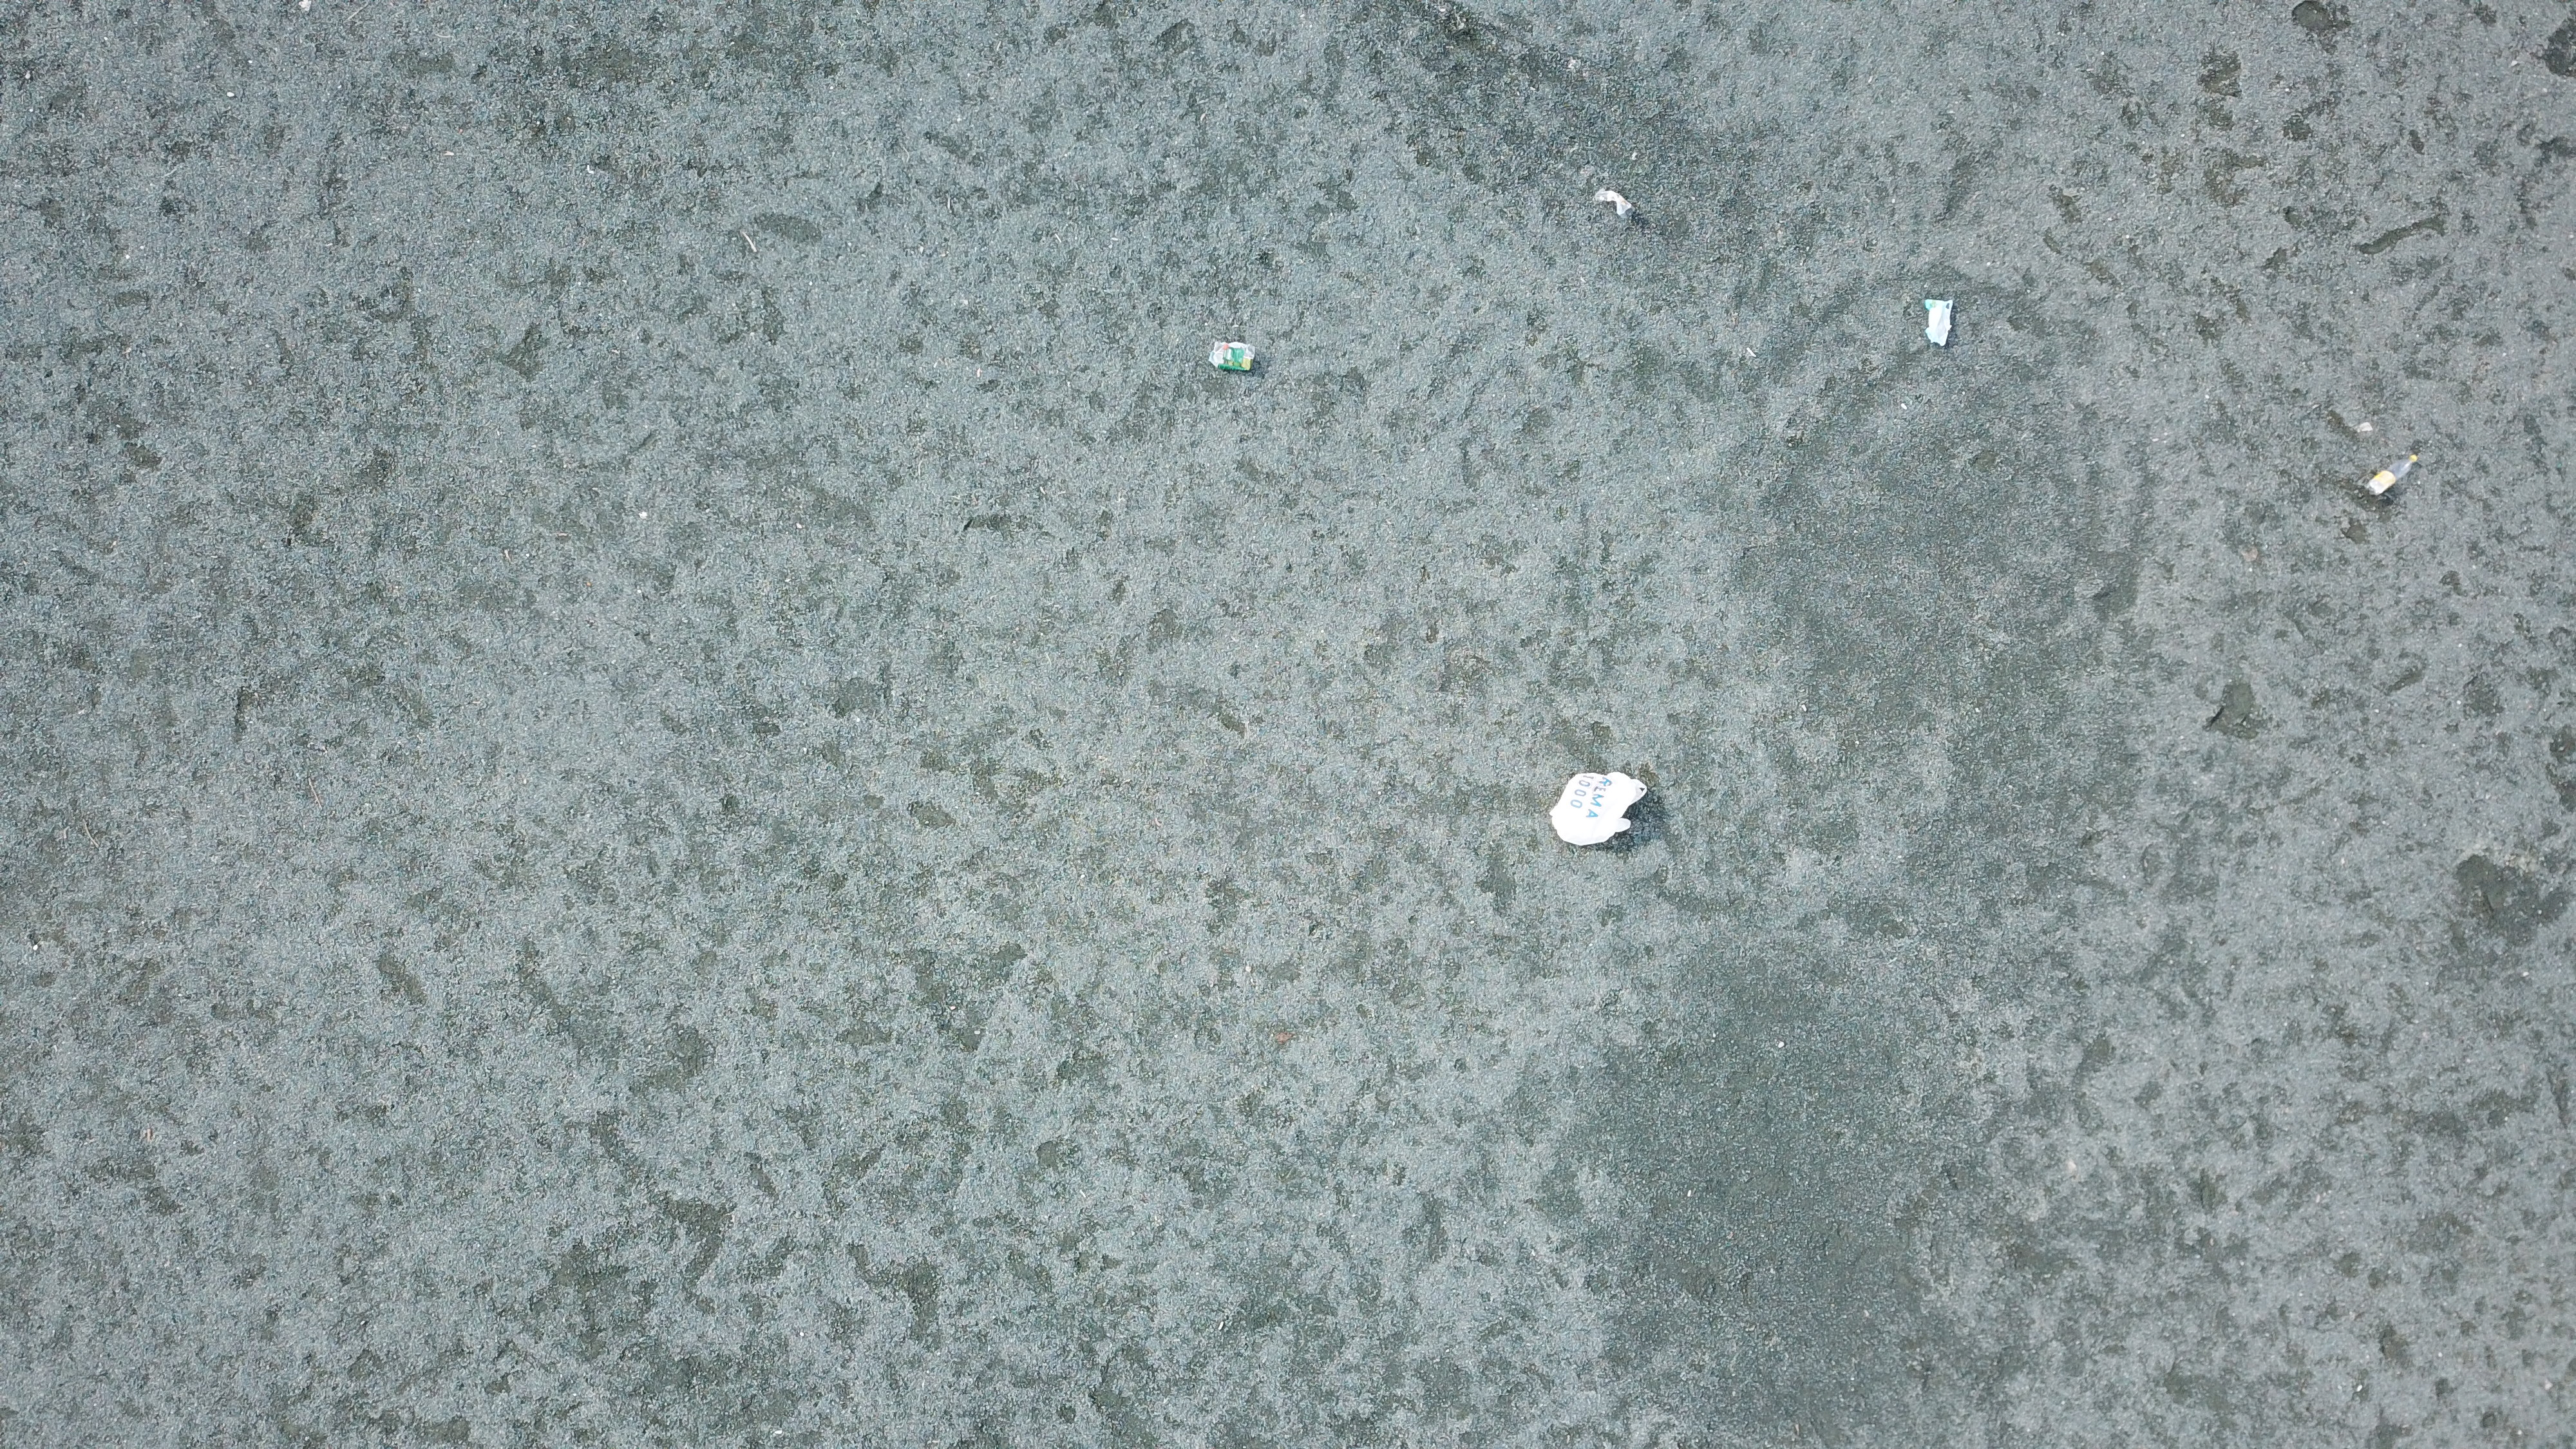Plastic: (1548, 771, 1651, 847), (1207, 340, 1258, 375), (1920, 297, 1953, 345), (1591, 188, 1635, 221)
PlasticBottle: (2365, 453, 2417, 497)
